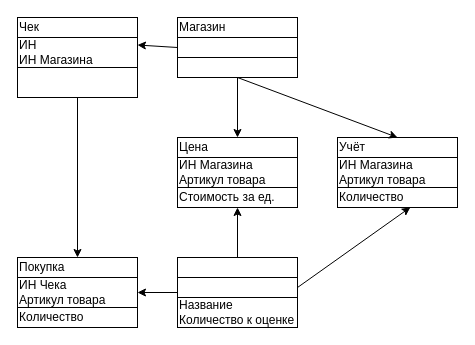
Image size: 475x345. Some labels were removed from this diagram. The shapes that lost their labels are listed below. From the top down, each one's centre as x and y in pixels, then its label:
At point 237,47: "ИН".
At point 237,67: "Адрес".
At point 77,82: "Общая стоимость Время приобретения".
At point 237,267: "Товар".
At point 237,287: "Артикул".
